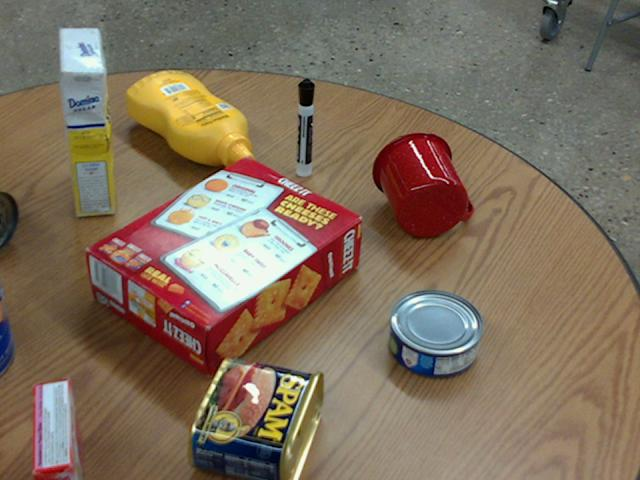cracker_box: (87, 158, 361, 375)
gelatin_box: (31, 376, 84, 479)
large_marker: (296, 79, 314, 175)
master_chef_can: (0, 292, 13, 372)
mug: (371, 131, 472, 237)
mustard_bottle: (125, 71, 252, 167)
potted_meat_can: (186, 356, 322, 479)
sugar_box: (61, 28, 112, 215)
tomato_soup_can: (0, 189, 17, 248)
tuna_fish_can: (388, 289, 482, 377)
